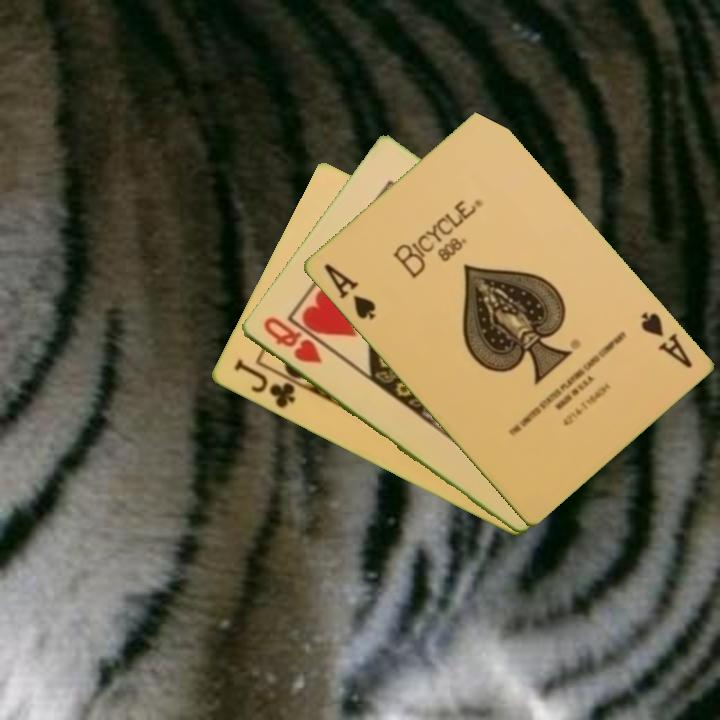As: (319, 260, 379, 323), (636, 308, 695, 371)
Jc: (229, 356, 298, 412)
Qh: (259, 313, 325, 367)
